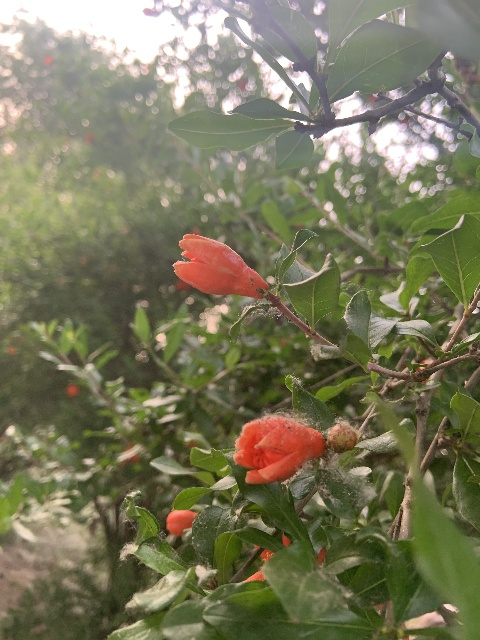bud: (165, 509, 198, 536), (327, 423, 357, 452)
flower: (172, 232, 269, 299), (233, 416, 325, 483)
